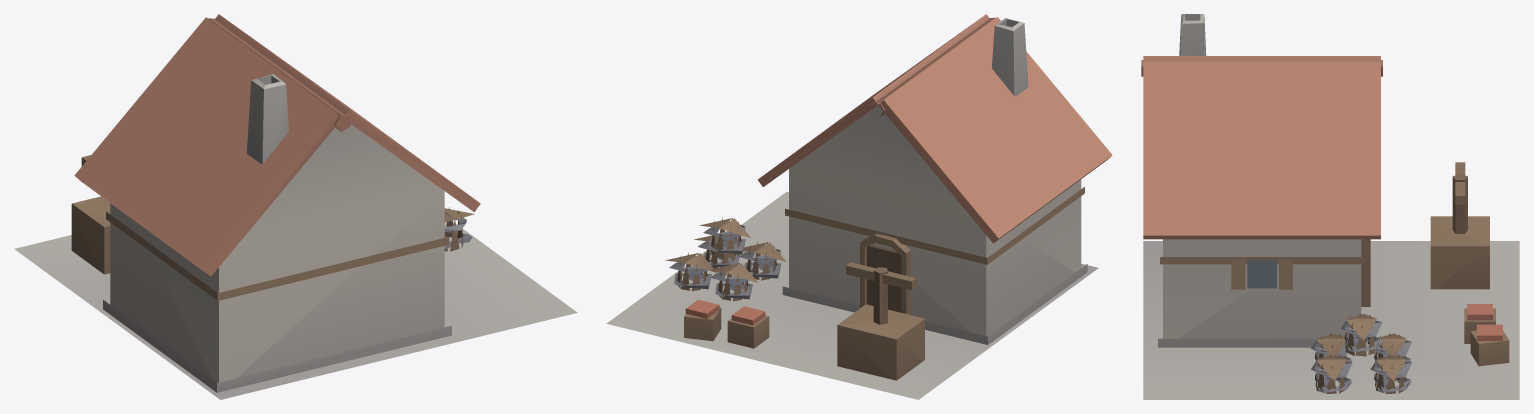
Rendered from cidery.glb.
3 renders of one model, left to right at view 1: azimuth 30°, elevation 25°; view 2: azimuth 150°, elevation 25°; view 3: azimuth 270°, elevation 25°, orthographic. The views are drawn at different scales.
Visible parts, largest first — view 1: cidery; view 2: cidery; view 3: cidery.
Part boxes in pixels (x1=…): cidery: x1=14, y1=14, x2=577, y2=399; cidery: x1=606, y1=14, x2=1112, y2=399; cidery: x1=1141, y1=14, x2=1519, y2=399.
Size of the model in its own units: 1.99 by 1.45 by 1.91.
